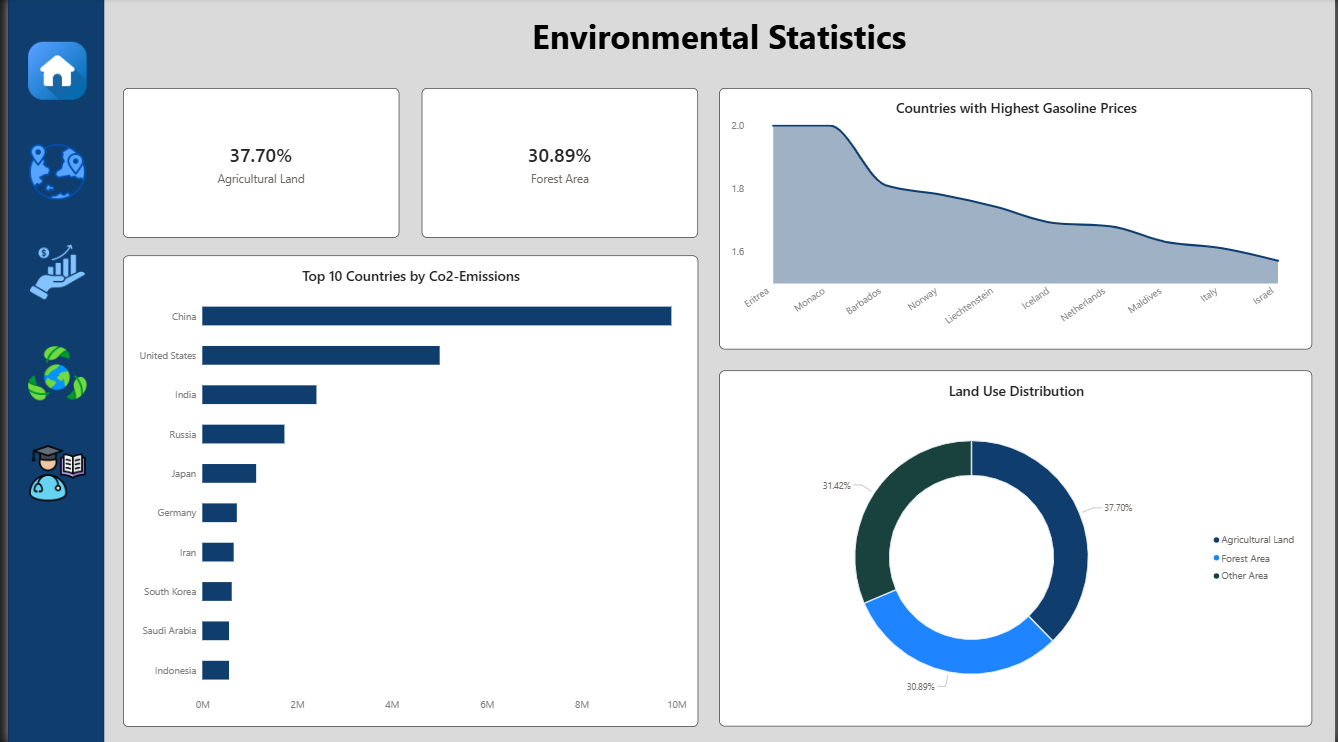

The page's visual inventory and layout, read from the dashboard file:
{"tool":"powerbi","page":{"name":"Environment","canvas":[1920,1080],"ordinal":3},"visuals":[{"type":"shape","box":[0,0,139.3,1080.4],"z":0},{"type":"image","box":[16.3,63.3,110.4,84.4],"z":0,"group":"g1"},{"type":"textbox","box":[139.3,21.7,1780.7,74.2],"z":1000},{"type":"image","box":[16.3,209.1,110.4,84.4],"z":1000,"group":"g1"},{"type":"card","fields":{"Values":["Measure.Agricultural Land"]},"box":[166.5,130.3,399.9,217.2],"z":2000},{"type":"image","box":[16.3,355,110.4,84.4],"z":2000,"group":"g1"},{"type":"card","fields":{"Values":["Measure.Forest Area"]},"box":[599,130.3,399.9,217.2],"z":3000},{"type":"image","box":[16.3,500.8,110.4,84.4],"z":3000,"group":"g1"},{"type":"barChart","title":"Top 10 Countries by Co2-Emissions","fields":{"Category":["Dim_Geography.Country"],"Y":["Sum(Fact_WorldData.Co2-Emissions)"]},"box":[166.5,372.8,832.4,682.2],"z":4000},{"type":"image","box":[16.3,646.7,110.4,84.4],"z":4000,"group":"g1"},{"type":"areaChart","title":"Countries with Highest Gasoline Prices","fields":{"Category":["Fact_WorldData.Country"],"Y":["Sum(Fact_WorldData.Gasoline Price)"]},"box":[1030.4,130.4,858.7,378.3],"z":5000},{"type":"donutChart","title":"Land Use Distribution","fields":{"Y":["Measure.Agricultural Land","Measure.Forest Area","Measure.Other Area"]},"box":[1030.4,539.1,858.7,515.2],"z":6000},{"type":"group","id":"g1","title":"Group 1","box":[16.3,63.3,110.4,667.8],"z":6001}]}

Visuals, with their boxes in screenshot pixels (x1, y1, x2, y2), scaled from the page's 1920x1080 canvas onto the 1338x742 screenshot:
shape: (x1=0, y1=0, x2=97, y2=741)
image: (x1=11, y1=43, x2=88, y2=101)
textbox: (x1=97, y1=15, x2=1337, y2=66)
image: (x1=11, y1=144, x2=88, y2=202)
card - Measure.Agricultural Land: (x1=116, y1=90, x2=395, y2=239)
image: (x1=11, y1=244, x2=88, y2=302)
card - Measure.Forest Area: (x1=417, y1=90, x2=696, y2=239)
image: (x1=11, y1=344, x2=88, y2=402)
"Top 10 Countries by Co2-Emissions" barChart: (x1=116, y1=256, x2=696, y2=725)
image: (x1=11, y1=444, x2=88, y2=502)
"Countries with Highest Gasoline Prices" areaChart: (x1=718, y1=90, x2=1316, y2=349)
"Land Use Distribution" donutChart: (x1=718, y1=370, x2=1316, y2=724)
"Group 1" group: (x1=11, y1=43, x2=88, y2=502)
